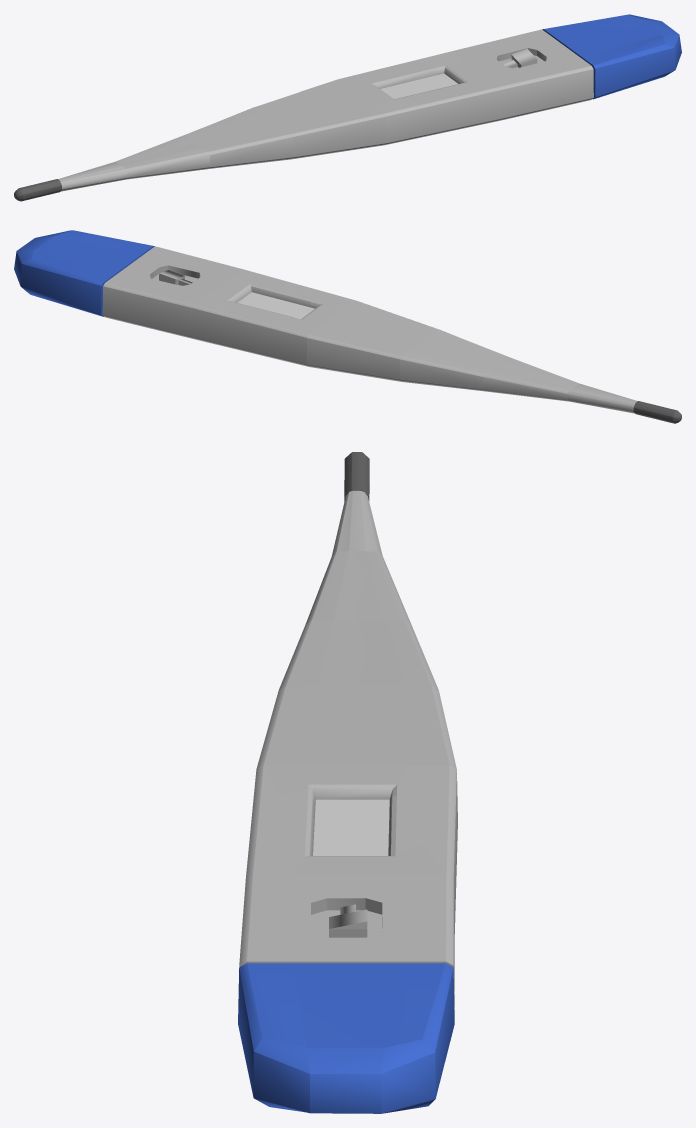
Rendered from digital thermometer.fbx.
3 renders of one model, top to bottom at view 1: azimuth 30°, elevation 25°; view 2: azimuth 150°, elevation 25°; view 3: azimuth 270°, elevation 25°, orthographic. The views are drawn at different scales.
Parts seen in each view (by area): view 1: Thermometer:Mesh; view 2: Thermometer:Mesh; view 3: Thermometer:Mesh.
Boxes of the visible parts, x1,y1,x2,y2 form: Thermometer:Mesh: (14,14,681,201); Thermometer:Mesh: (14,230,681,423); Thermometer:Mesh: (238,452,457,1113).
Size of the model in its own units: 14.62 by 0.8058 by 2.12.
